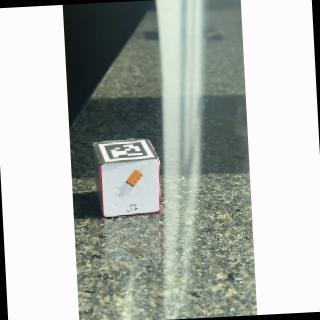Syringe: (100, 160, 164, 218)
